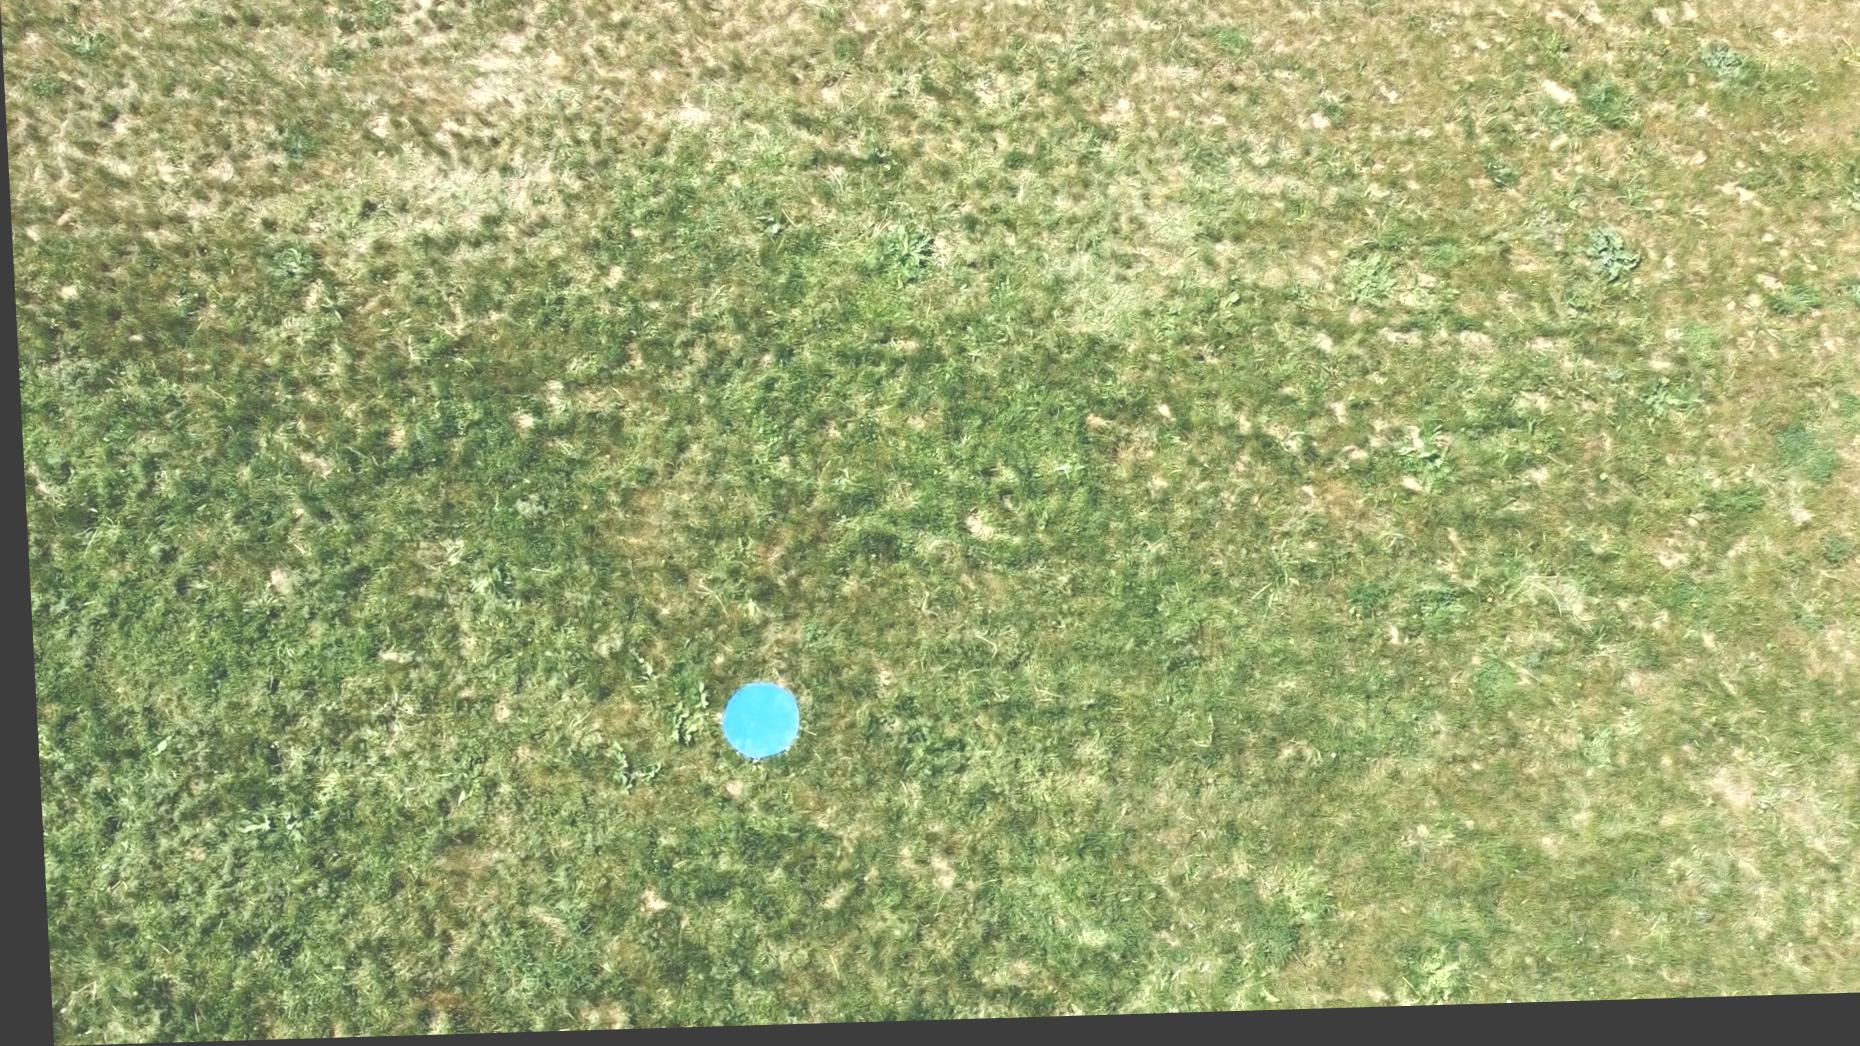Blue: (705, 683, 798, 766)
